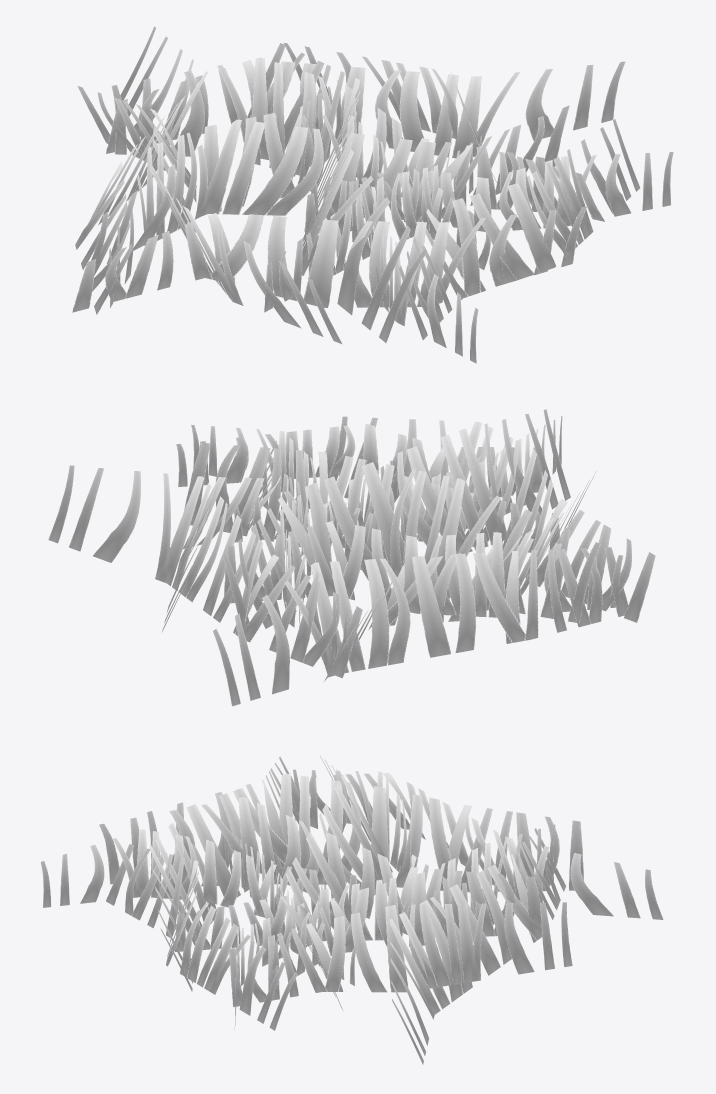
The model's file is SM_Grass_Small_02.obj.
3 views of the same model, one above another, from view 1: azimuth 30°, elevation 25°; view 2: azimuth 150°, elevation 25°; view 3: azimuth 270°, elevation 25° (orthographic). The views are drawn at different scales.
Parts seen in each view (by area): view 1: SM_Grass_Small_02_MI_GrassSmall; view 2: SM_Grass_Small_02_MI_GrassSmall; view 3: SM_Grass_Small_02_MI_GrassSmall.
Boxes of the visible parts, x1,y1,x2,y2 form: SM_Grass_Small_02_MI_GrassSmall: (72,26,673,363); SM_Grass_Small_02_MI_GrassSmall: (48,409,655,706); SM_Grass_Small_02_MI_GrassSmall: (40,756,663,1064).
Bounding box in the file's own units: 2.62 × 0.5244 × 2.61.
Materials: 1 (1 with a texture image).
